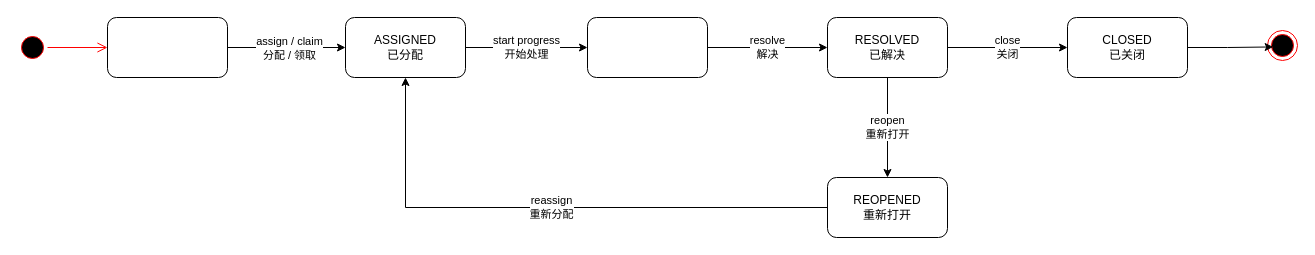
The diagram is 1315 pixels wide and 255 high, and some of its shapes have lost their labels. The centre of each missing label's shape, as x and y in pixels:
IN_PROGRESS 处理中: pixel 647 47
OPEN 待处理: pixel 167 47
